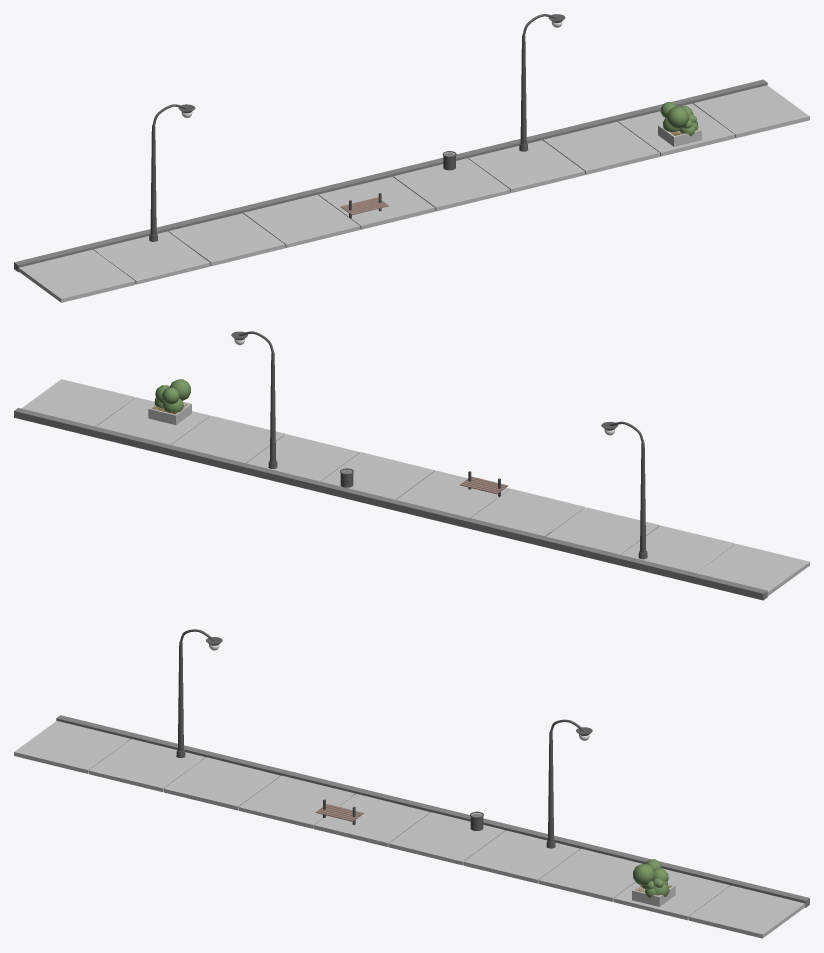
The model's file is sidewalk.gltf.
3 views of the same model, one above another, from view 1: azimuth 30°, elevation 25°; view 2: azimuth 150°, elevation 25°; view 3: azimuth 330°, elevation 25° (orthographic).
Bounding box in the file's own units: 40.5 × 7.26 × 4.4.
